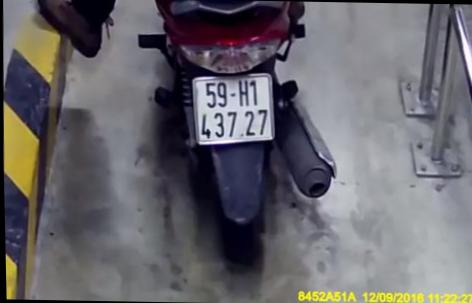LP: (188, 71, 277, 152)
